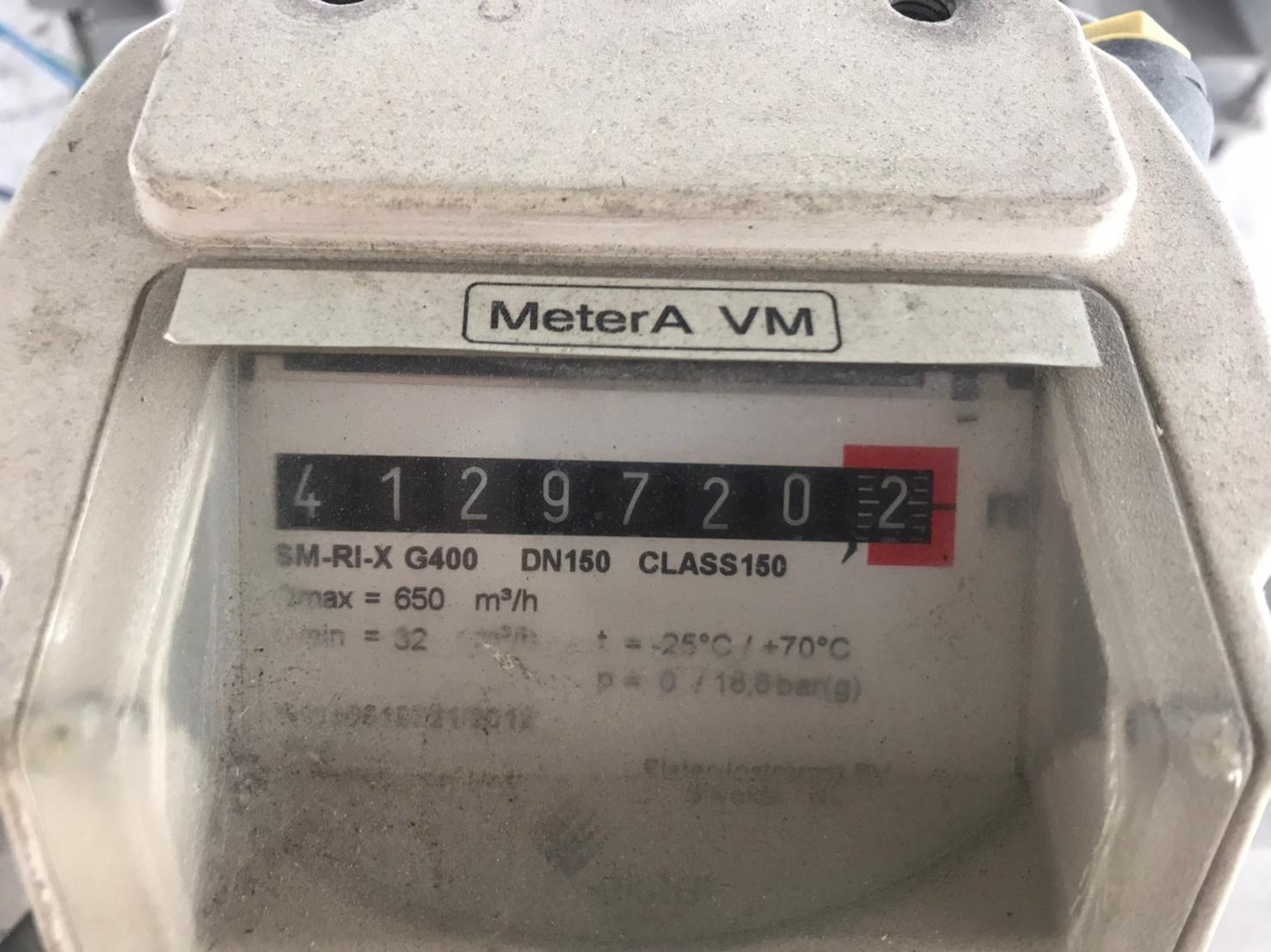analog_dial: (265, 405, 964, 572)
